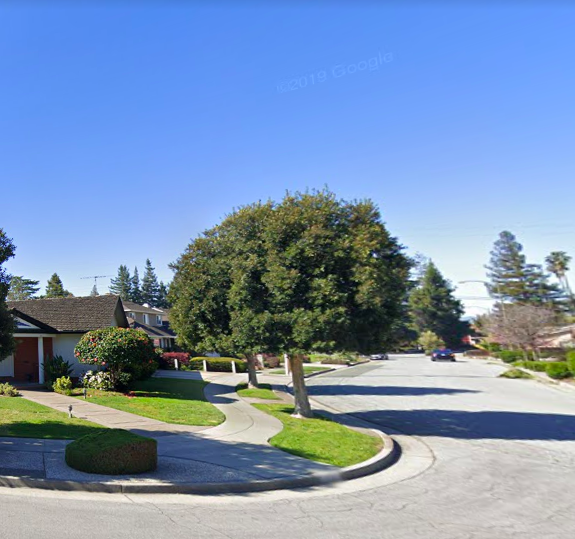tree: (164, 181, 421, 419)
